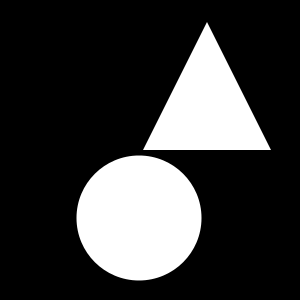rectangle: (76, 156, 202, 280)
triangle: (143, 22, 271, 150)
